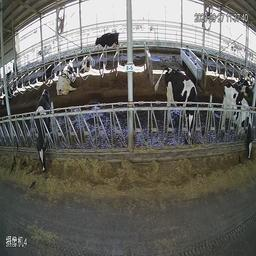cow: (164, 65, 198, 140), (222, 82, 254, 161), (34, 89, 53, 171), (56, 61, 76, 97), (95, 32, 121, 56), (81, 54, 94, 74)
